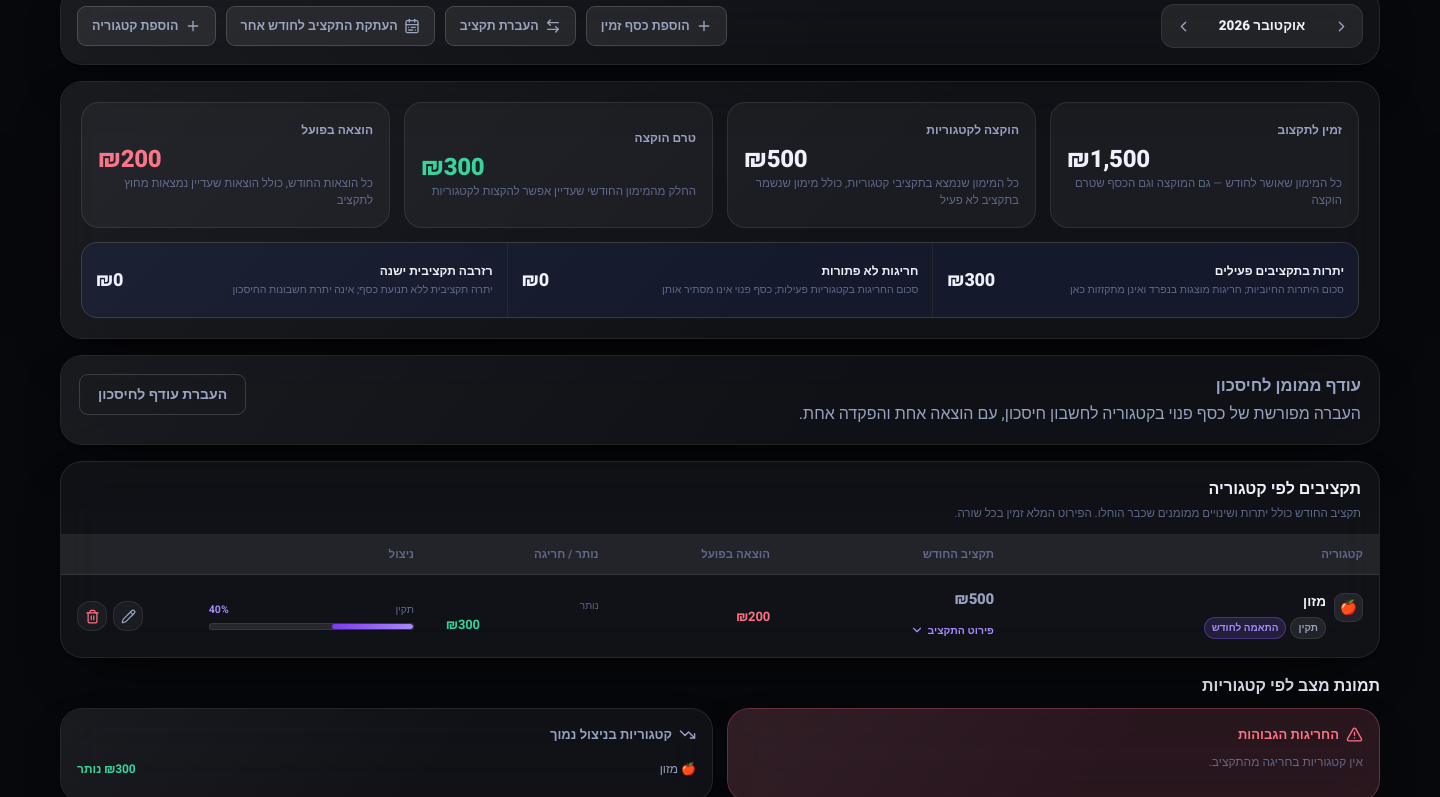
canonical funded monthly read › labels a changed recurring default as current configuration, not historical month funding
The width and height of the screenshot is (1440, 797).
Expected: the text "מזון" shows "₪500", [61,575,1379,657]
Expected: the text "מזון" does not show "₪100", [61,575,1379,657]
Click the button with aria-label "הצגת פירוט התקציב עבור מזון" at (952,630), box [910,616,994,644]
(page scrolled)
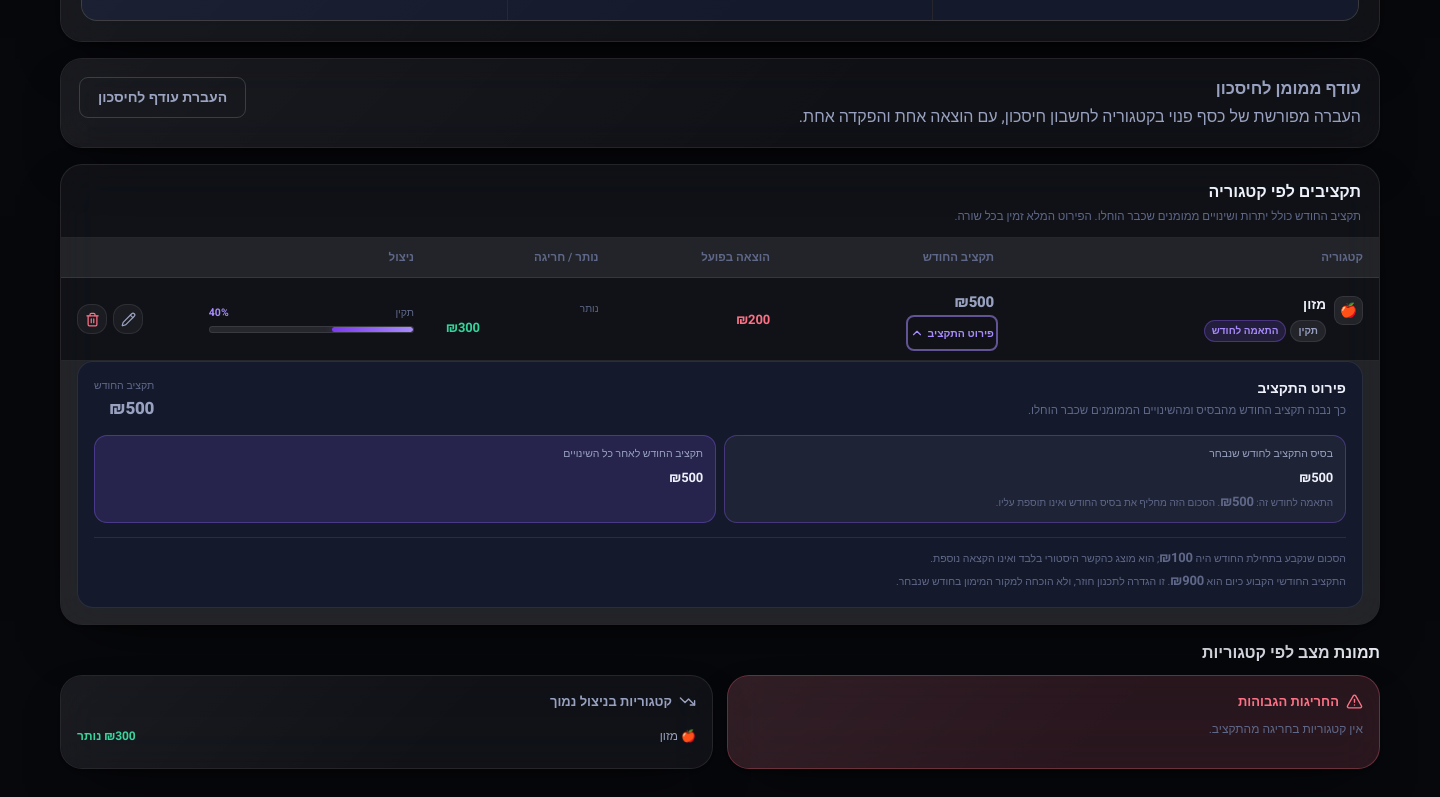
Expected: the text "הסכום שנקבע בתחילת החודש היה" shows "₪100", [930,548,1346,567]
Expected: the text "התקציב החודשי הקבוע כיום הוא" shows "₪900", [896,571,1346,590]
Expected: the text "לא הוכחה למקור המימון בחודש שנבחר" is shown, [896,574,1170,589]
